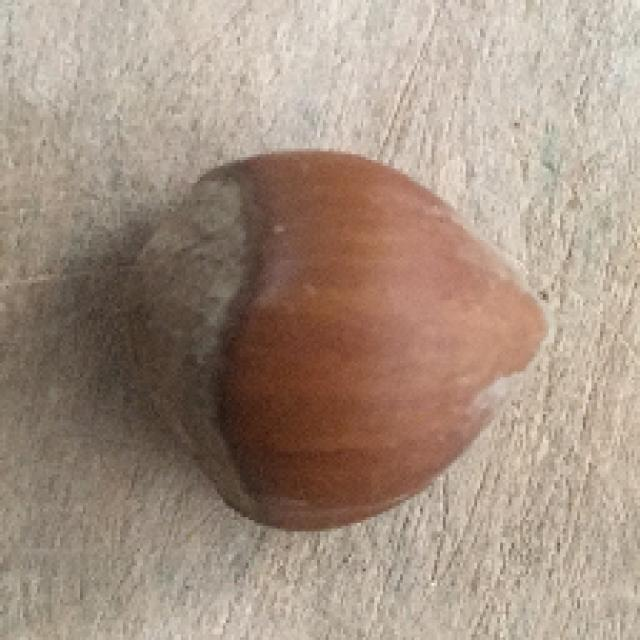QualityHazelnut: (115, 149, 556, 535)
